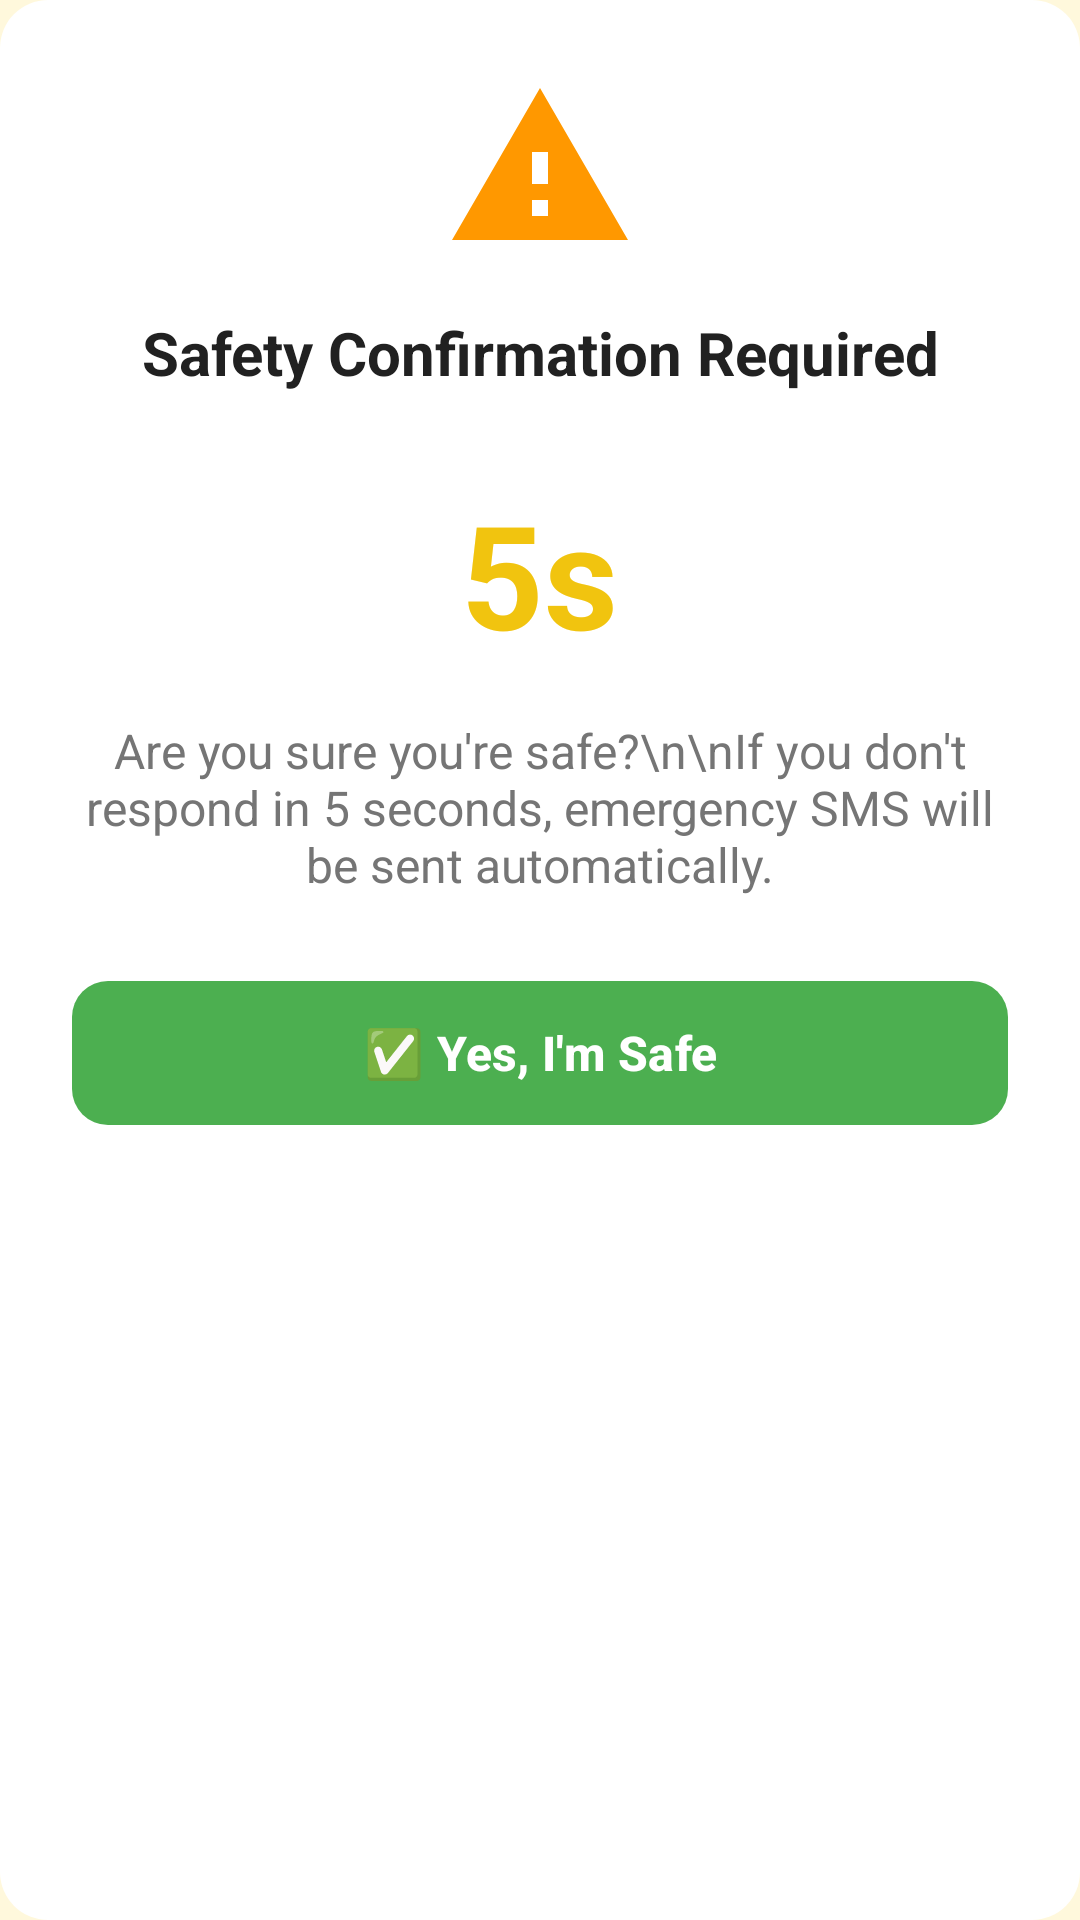

Point at icon controls on the screen. Image size 1080px x 1920px, points as (x=x, y=y).
warning: (x=540, y=164)
